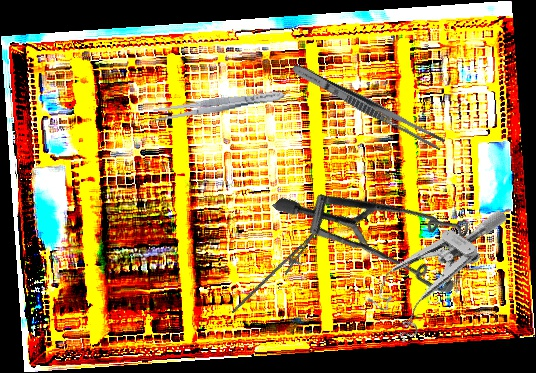Dressing Forceps: (289, 60, 447, 152), (151, 86, 287, 124)
Needle Holder: (230, 219, 326, 329)
Speculum: (272, 116, 494, 344), (358, 177, 509, 352)
